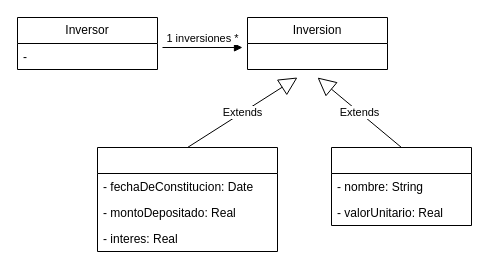
The diagram is 489 pixels wide and 272 high, and some of its shapes have lost their labels. The box of each missing label's shape, as (x1, y1, x2, y2) in pixels:
InversionEnAcciones: (330, 146, 472, 226)
InversionEnPlazoFijo: (96, 146, 278, 252)
